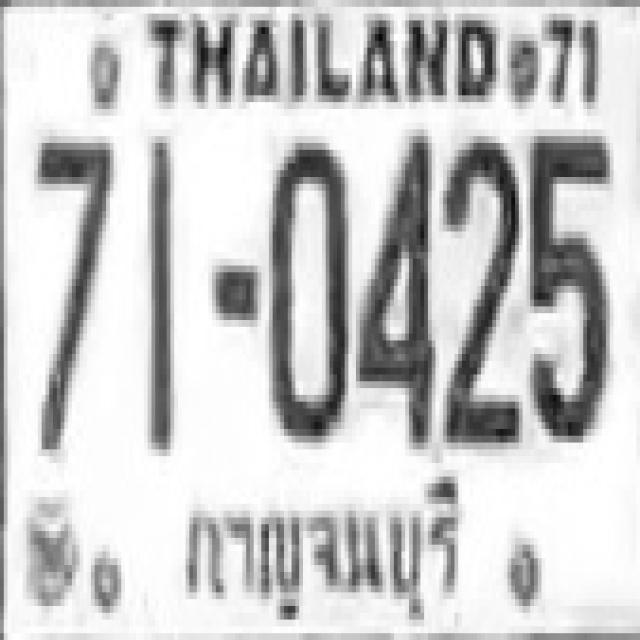0: (265, 136, 345, 436)
1: (144, 136, 170, 450)
2: (441, 133, 517, 439)
4: (356, 133, 432, 439)
5: (526, 129, 606, 436)
7: (34, 133, 110, 446)
Kanchanaburi: (170, 471, 484, 640)
